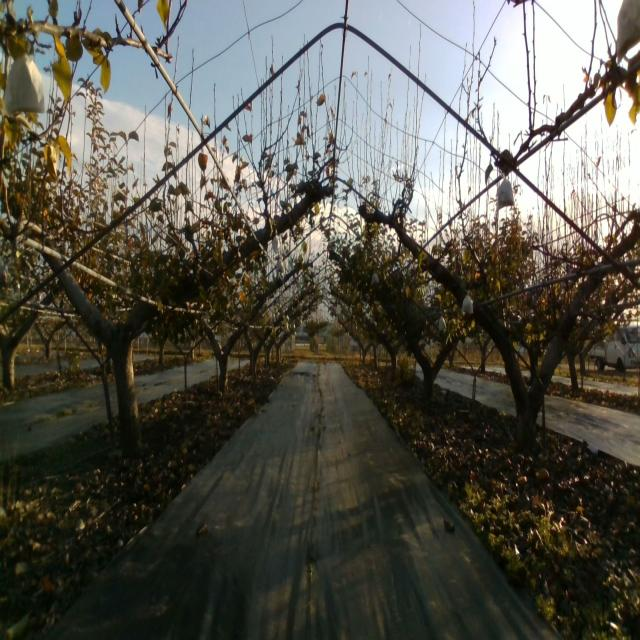pearbags: (4, 54, 45, 114), (496, 176, 515, 208), (462, 293, 474, 314)
